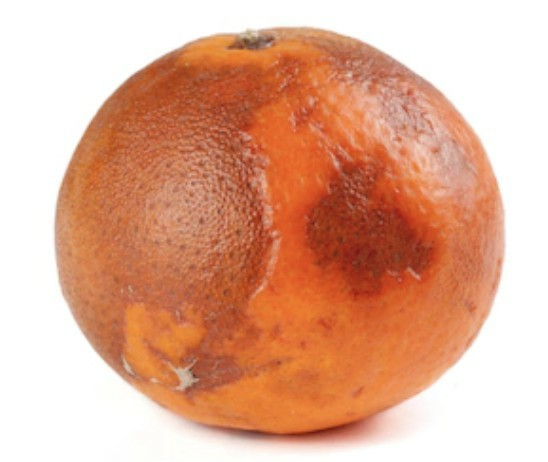rotten_orange: (60, 28, 504, 434)
